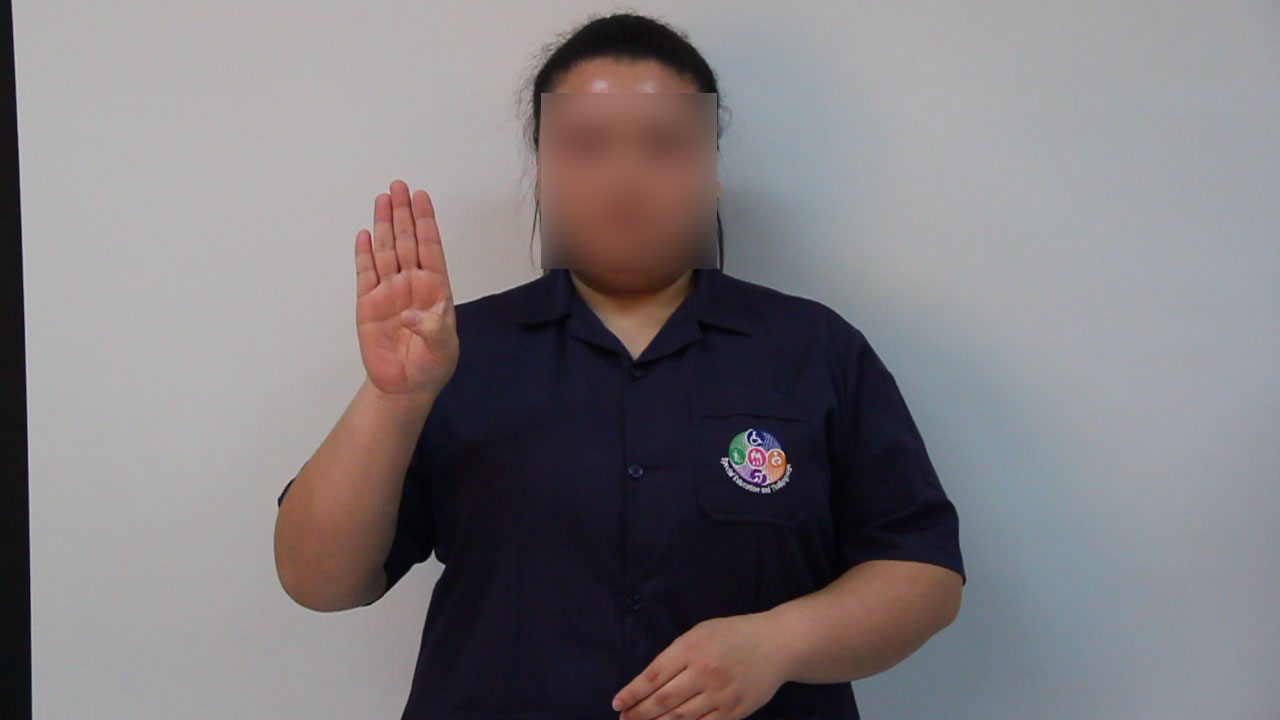bor: (335, 161, 479, 421)
